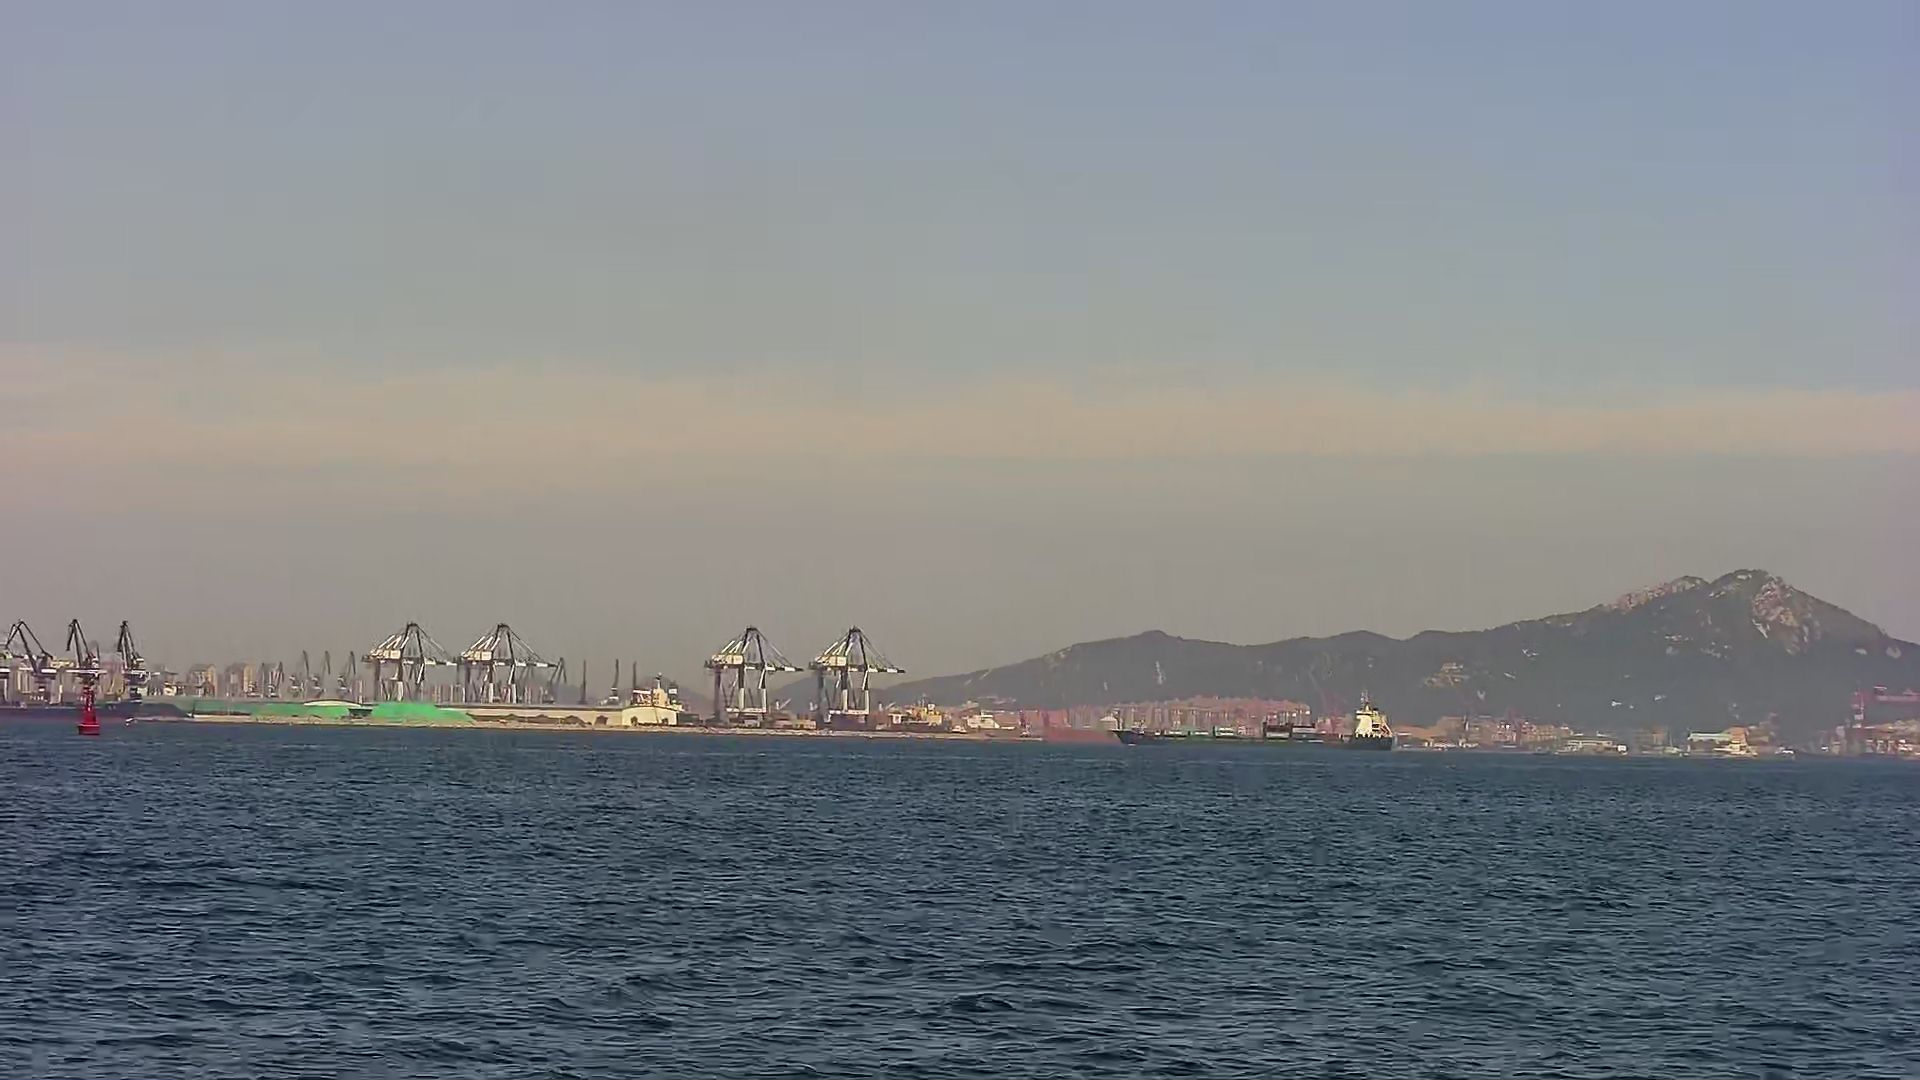buoy: (76, 683, 105, 735)
ship: (1113, 700, 1400, 749)
